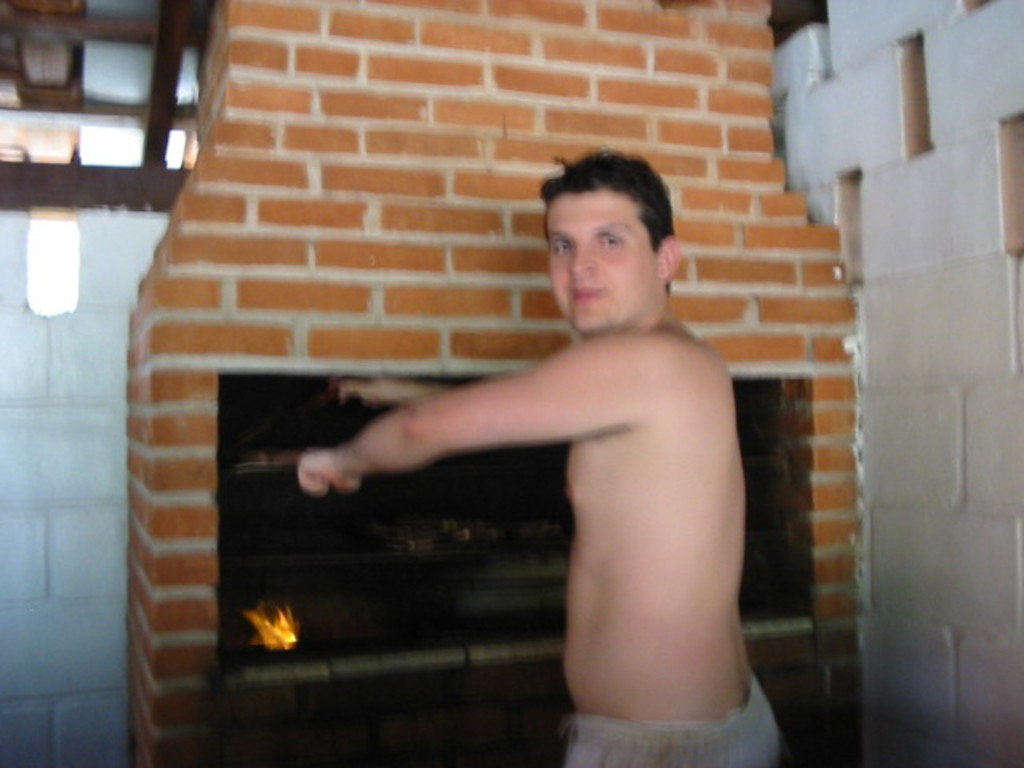Human_hand: (294, 450, 365, 501)
